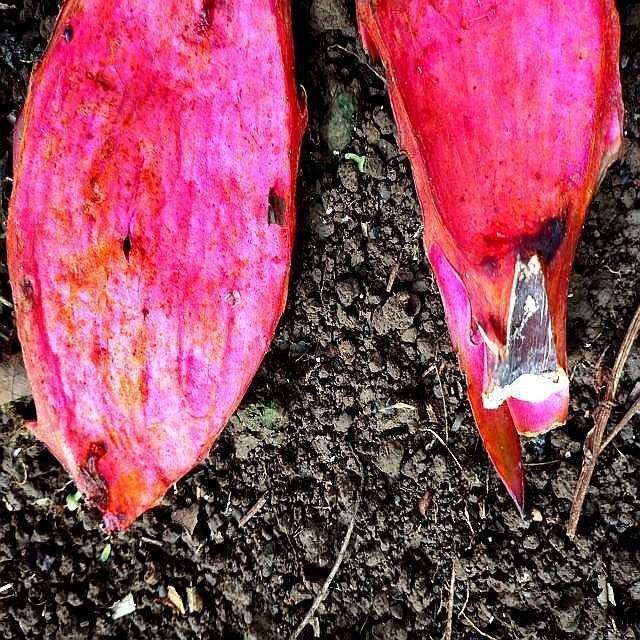Biodegradable: (3, 3, 295, 521), (351, 1, 633, 469)
